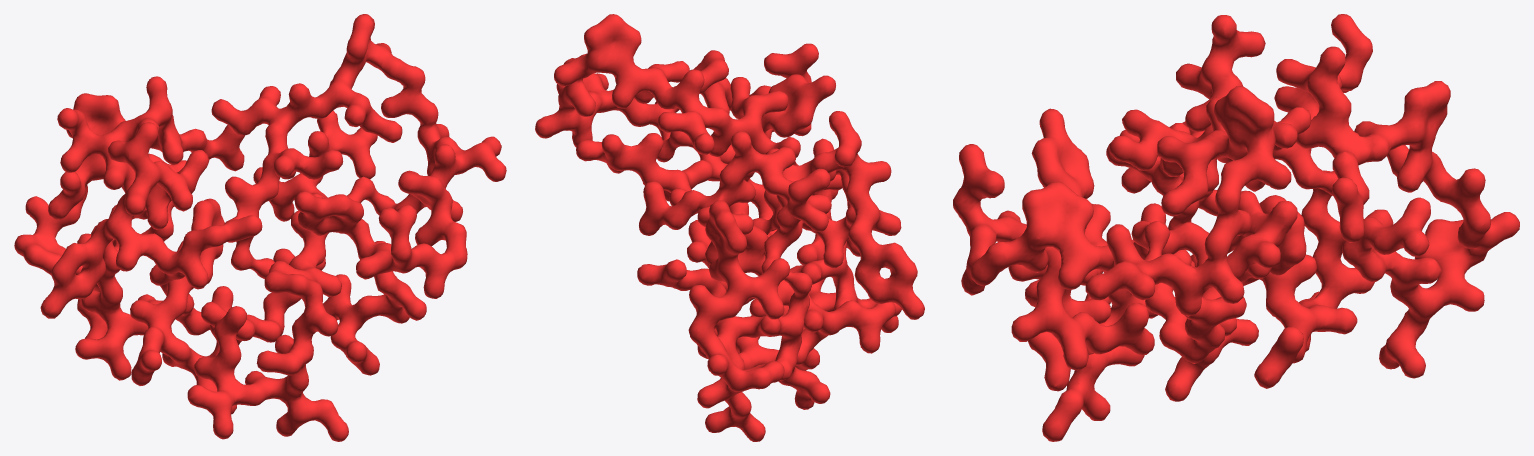
The model's file is prot2.fbx.
3 views of the same model, side by side, from view 1: azimuth 30°, elevation 25°; view 2: azimuth 150°, elevation 25°; view 3: azimuth 270°, elevation 25° (orthographic). The views are drawn at different scales.
Parts seen in each view (by area): view 1: Volume_Mesher_1; view 2: Volume_Mesher_1; view 3: Volume_Mesher_1.
Boxes of the visible parts, x1,y1,x2,y2 form: Volume_Mesher_1: (14, 14, 506, 441); Volume_Mesher_1: (535, 14, 924, 441); Volume_Mesher_1: (953, 14, 1519, 441).
Size of the model in its own units: 28.58 by 22.72 by 28.24.
